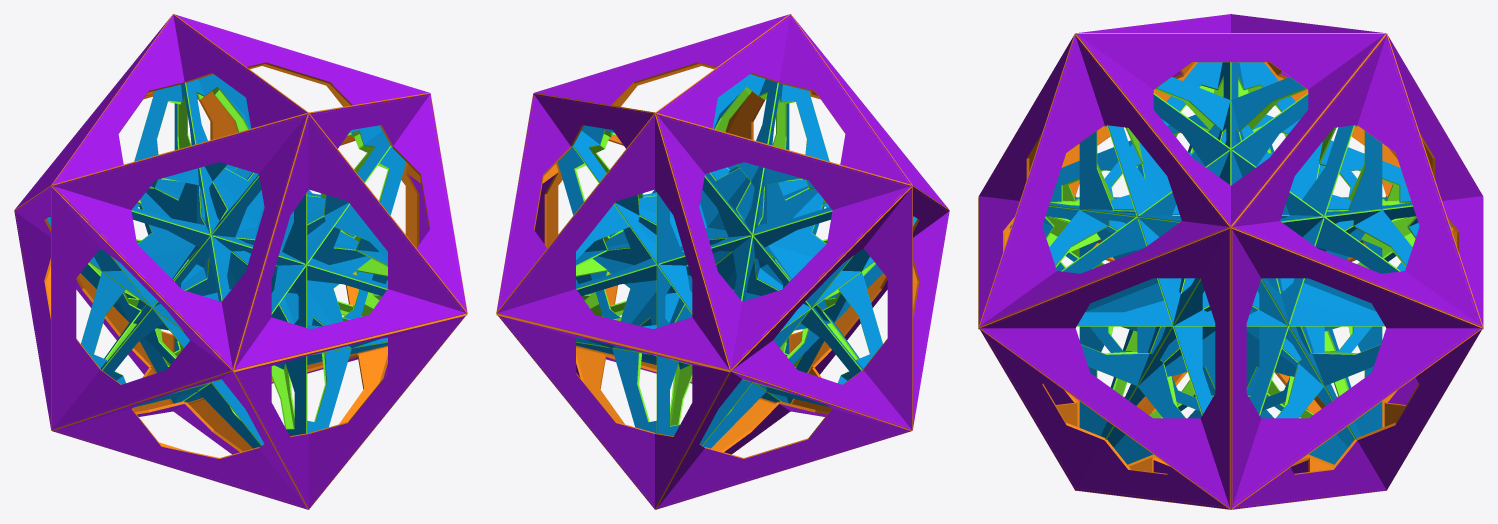
Rendered from GreatDodecahedronS2.glb.
3 views of the same model, side by side, from view 1: azimuth 30°, elevation 25°; view 2: azimuth 150°, elevation 25°; view 3: azimuth 270°, elevation 25° (orthographic). The views are drawn at different scales.
Visible parts, largest first — view 1: Mesh_0004_2, Mesh_0005_1, Mesh_0004_1, Mesh_0005; view 2: Mesh_0004_2, Mesh_0005_1, Mesh_0004_1, Mesh_0005; view 3: Mesh_0004_2, Mesh_0005_1, Mesh_0004_1, Mesh_0005.
Part boxes in pixels (x1,y1,x2,y2): Mesh_0004_2: [14, 14, 467, 509]; Mesh_0005_1: [46, 74, 406, 448]; Mesh_0004_1: [14, 14, 467, 509]; Mesh_0005: [82, 82, 391, 445]; Mesh_0004_2: [496, 14, 949, 509]; Mesh_0005_1: [557, 74, 917, 448]; Mesh_0004_1: [496, 14, 949, 509]; Mesh_0005: [572, 82, 881, 445]; Mesh_0004_2: [978, 14, 1483, 509]; Mesh_0005_1: [1010, 62, 1451, 464]; Mesh_0004_1: [978, 16, 1483, 509]; Mesh_0005: [1045, 62, 1416, 464].
Bounding box in the file's own units: 7.74 × 7.74 × 7.75.
